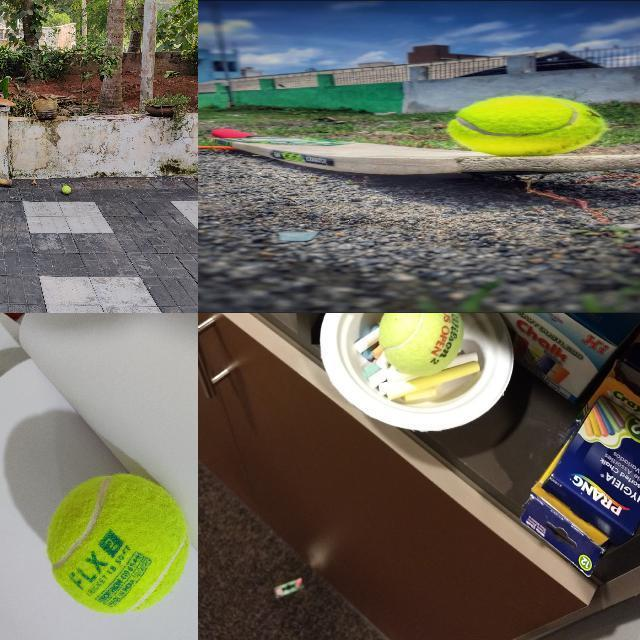tennis-ball: (45, 472, 192, 614), (447, 95, 607, 155), (378, 313, 465, 377), (62, 185, 71, 194)
